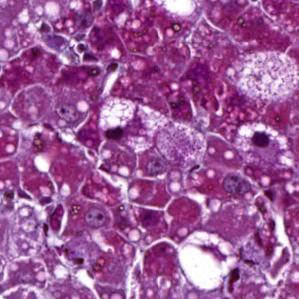ballooning: (97, 95, 208, 174), (174, 227, 242, 293)
